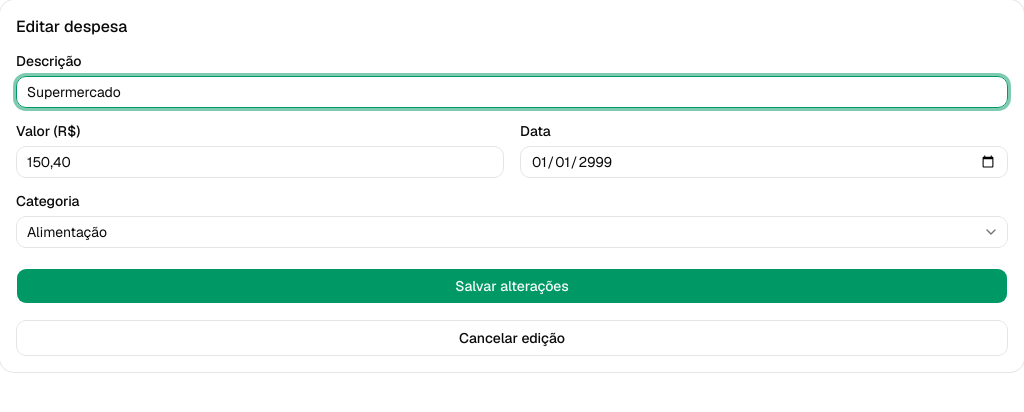
Test case: <ExpenseForm /> › modo de edição › rejeita data no futuro na edição
Click the button "Salvar alterações" at {"x": 512, "y": 286}, box x1=16 y1=268 x2=1008 y2=304
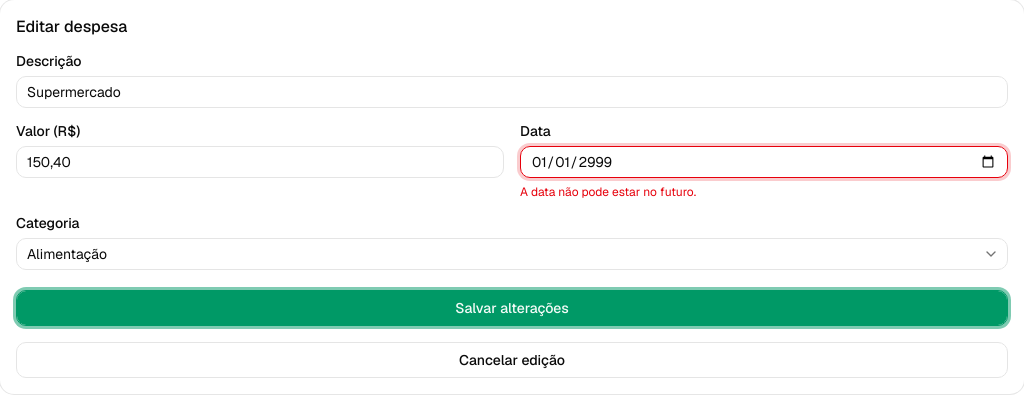
Expected: the text "A data não pode estar no futuro." is shown, x1=520 y1=184 x2=696 y2=200
